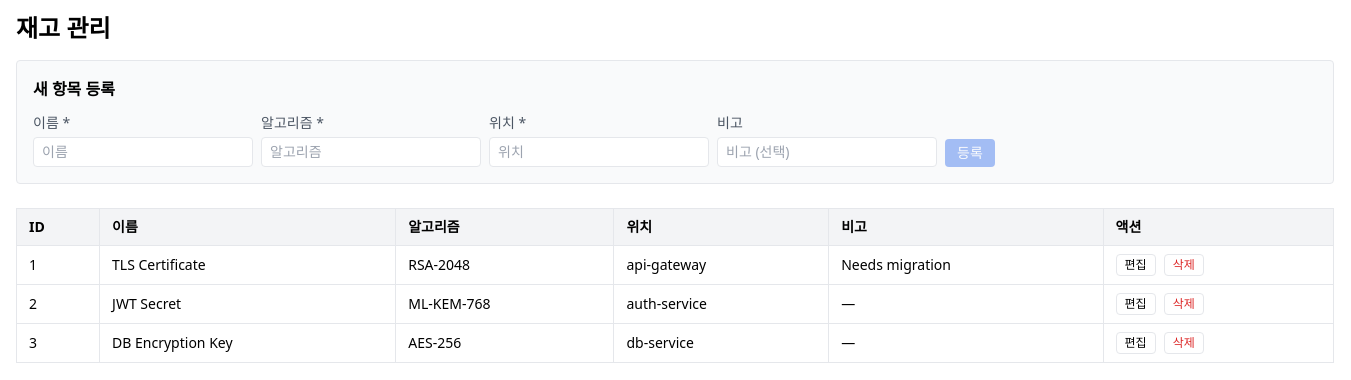
Test: InventoryPage › 필수 필드 입력 후 등록 버튼 활성화
This screenshot has width=1351, height=380.
Check: the text "TLS Certificate" is shown, box left=100, top=246, right=396, bottom=284
In the field with placeholder "이름": coordinates (143, 152) left=33, top=137, right=253, bottom=167, type "New Item"
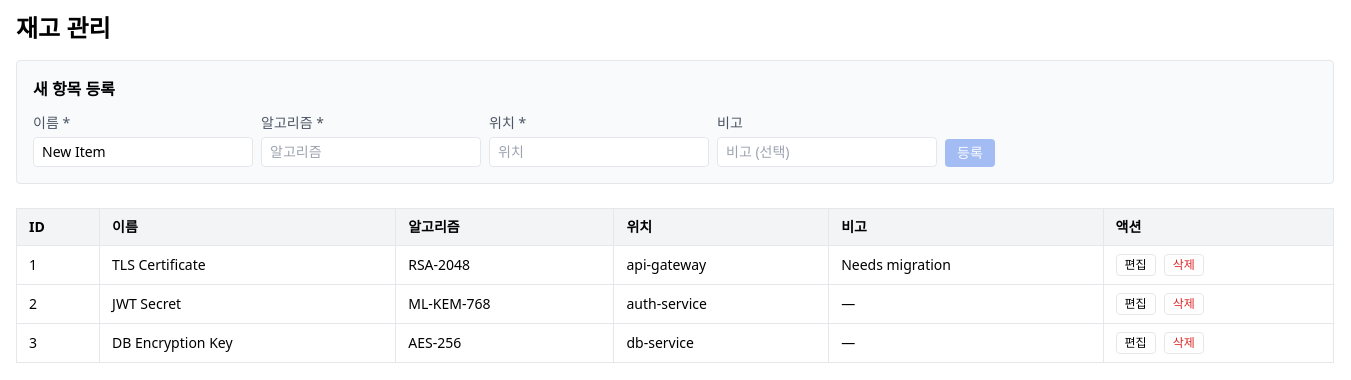
In the field with placeholder "알고리즘": coordinates (371, 152) left=261, top=137, right=481, bottom=167, type "ML-KEM-512"
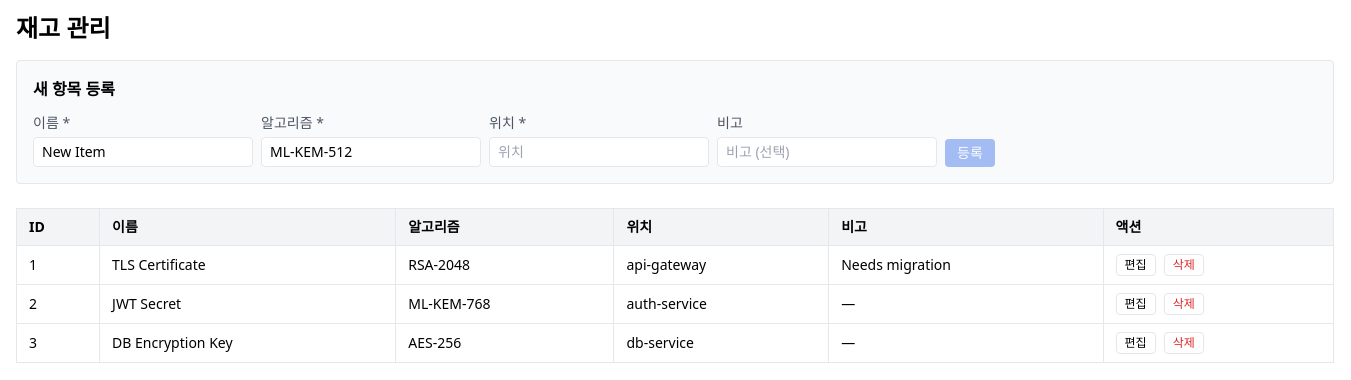
In the field with placeholder "위치": coordinates (599, 152) left=489, top=137, right=709, bottom=167, type "service-x"
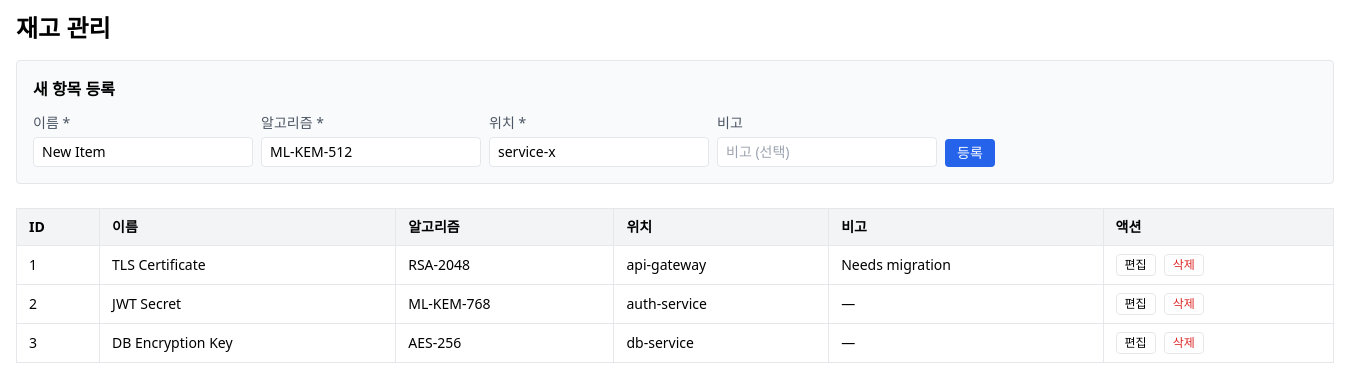
Check: the button "등록" is enabled, box left=945, top=139, right=995, bottom=167
